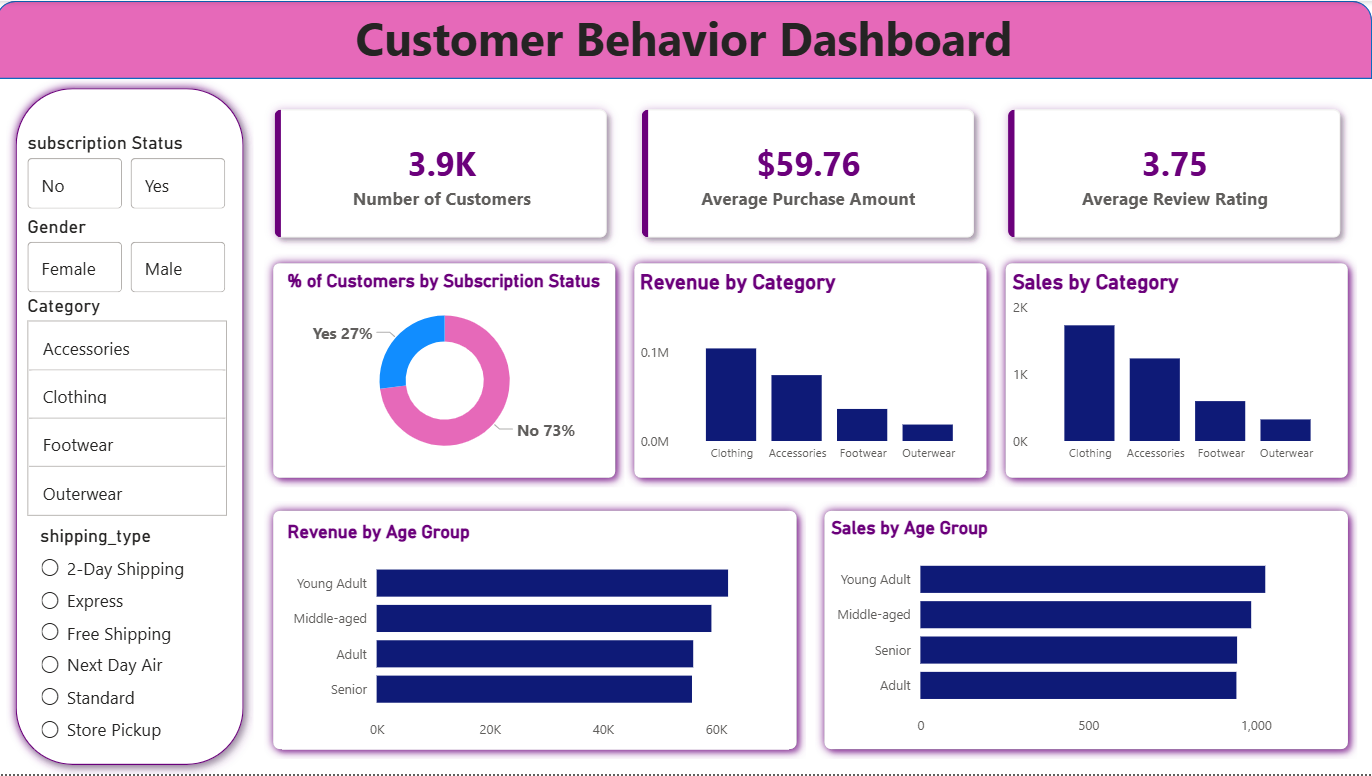

This screenshot's page, from the dashboard's own definition file:
{"tool":"powerbi","page":{"name":"Page 1","canvas":[1280,720],"ordinal":0},"visuals":[{"type":"cardVisual","fields":{"Data":["public customer.Number of Customers","public customer.Average Purchase Amount","public customer.Average Review Rating"]},"box":[230,72.5,1050,177.5],"z":0},{"type":"shape","box":[0,0,1280,72.5],"z":1000},{"type":"textbox","box":[0,0,1280,72.5],"z":2000},{"type":"shape","box":[248.8,235,336.2,217.5],"z":3000},{"type":"donutChart","title":"% of Customers by Subscription Status","fields":{"Category":["public customer.subscription_status"],"Y":["CountNonNull(public customer.customer_id)"]},"box":[266.2,250,302.5,187.5],"z":4000},{"type":"shape","box":[585,235,345,217.5],"z":5000},{"type":"shape","box":[930,235,336.2,217.5],"z":6000},{"type":"clusteredColumnChart","title":"Revenue by Category","fields":{"Y":["Sum(public customer.purchase_amount)"],"Category":["public customer.category"]},"box":[593.8,250,327.5,187.5],"z":7000},{"type":"clusteredColumnChart","title":"Sales by Category","fields":{"Y":["CountNonNull(public customer.customer_id)"],"Category":["public customer.category"]},"box":[941.2,250,313.8,187.5],"z":8000},{"type":"shape","box":[8.8,72.5,230,647.5],"z":9000},{"type":"advancedSlicerVisual","title":"subscription Status","fields":{"Values":["public customer.subscription_status"]},"box":[25,122.5,195,76.2],"z":10000},{"type":"advancedSlicerVisual","title":"Gender","fields":{"Values":["public customer.gender"]},"box":[25,200,195,76.2],"z":11000},{"type":"advancedSlicerVisual","title":"Category","fields":{"Values":["public customer.category"]},"box":[25,273.8,195,213.8],"z":12000},{"type":"listSlicer","fields":{"Values":["public customer.shipping_type"]},"box":[36.2,487.5,168.8,208.8],"z":13000},{"type":"shape","box":[248.8,465,505,240],"z":15000},{"type":"shape","box":[761.2,465,505,240],"z":16000},{"type":"clusteredBarChart","title":"Revenue by Age Group","fields":{"Y":["Sum(public customer.purchase_amount)"],"Category":["public customer.age_group"]},"box":[266.2,483.8,471.2,212.5],"z":17000},{"type":"clusteredBarChart","title":"Sales by Age Group","fields":{"Y":["CountNonNull(public customer.customer_id)"],"Category":["public customer.age_group"]},"box":[772.5,480,482.5,212.5],"z":17001}]}

Visuals, with their boxes in screenshot pixels (x1, y1, x2, y2), scaled from the page's 1280x720 canvas onto the 1372x776 screenshot:
cardVisual - public customer.Number of Customers x public customer.Average Purchase Amount: (x1=247, y1=78, x2=1371, y2=269)
shape: (x1=0, y1=0, x2=1371, y2=78)
textbox: (x1=0, y1=0, x2=1371, y2=78)
shape: (x1=267, y1=253, x2=627, y2=488)
"% of Customers by Subscription Status" donutChart: (x1=285, y1=269, x2=610, y2=472)
shape: (x1=627, y1=253, x2=997, y2=488)
shape: (x1=997, y1=253, x2=1357, y2=488)
"Revenue by Category" clusteredColumnChart: (x1=636, y1=269, x2=988, y2=472)
"Sales by Category" clusteredColumnChart: (x1=1009, y1=269, x2=1345, y2=472)
shape: (x1=9, y1=78, x2=256, y2=775)
"subscription Status" advancedSlicerVisual: (x1=27, y1=132, x2=236, y2=214)
"Gender" advancedSlicerVisual: (x1=27, y1=216, x2=236, y2=298)
"Category" advancedSlicerVisual: (x1=27, y1=295, x2=236, y2=526)
listSlicer - public customer.shipping_type: (x1=39, y1=525, x2=220, y2=750)
shape: (x1=267, y1=501, x2=808, y2=760)
shape: (x1=816, y1=501, x2=1357, y2=760)
"Revenue by Age Group" clusteredBarChart: (x1=285, y1=521, x2=790, y2=750)
"Sales by Age Group" clusteredBarChart: (x1=828, y1=517, x2=1345, y2=746)
